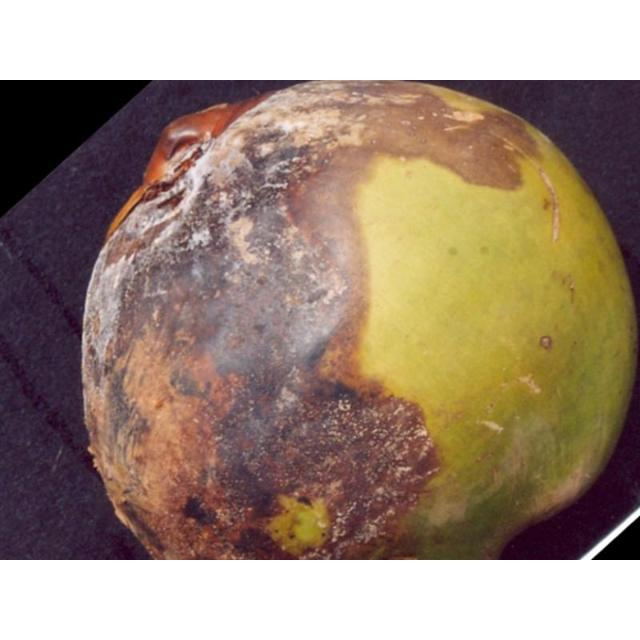damaged: (79, 80, 639, 559)
